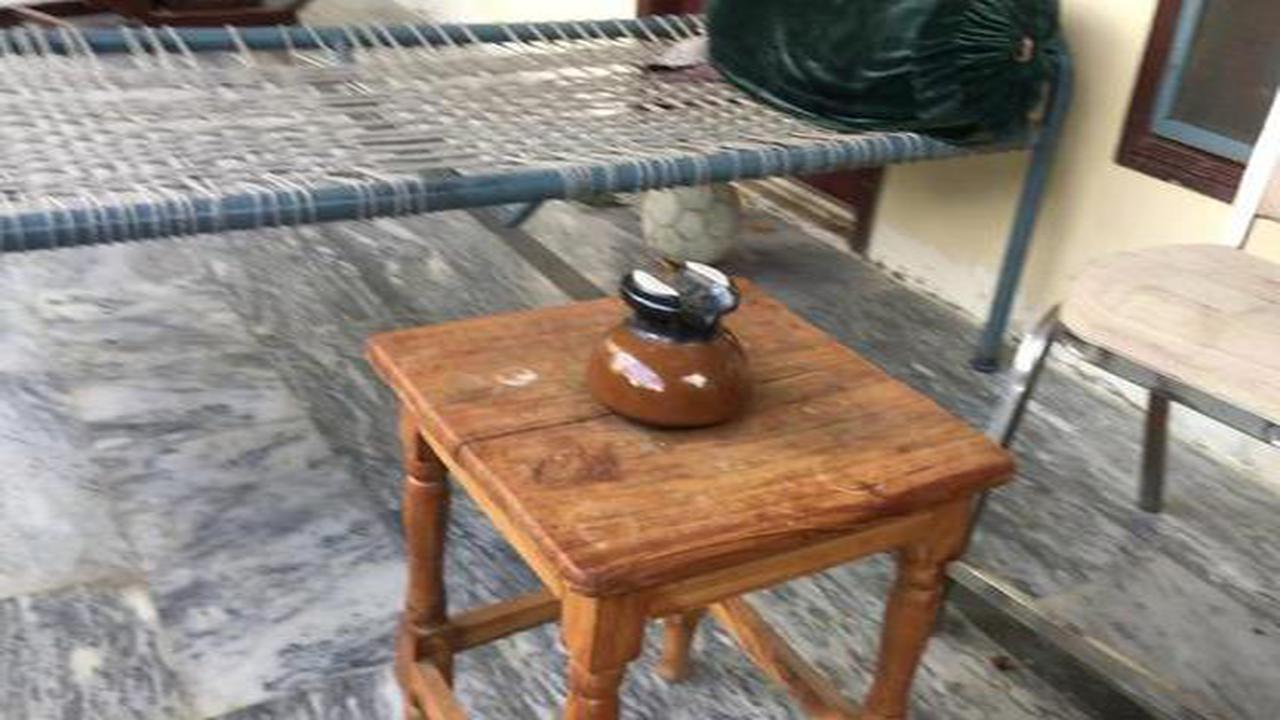insulator_pin: (570, 238, 773, 438)
